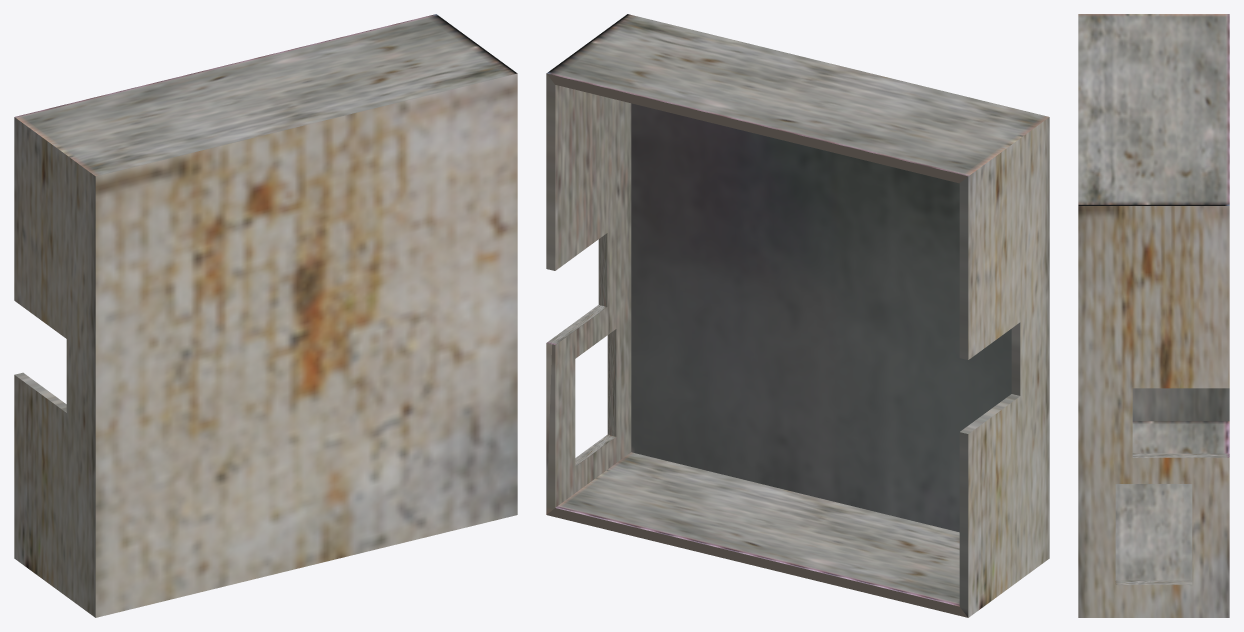
Rendered from 6x6EWs_EWindow_wtf.obj.
The picture shows the model from 3 angles, left to right: view 1: azimuth 30°, elevation 25°; view 2: azimuth 150°, elevation 25°; view 3: azimuth 270°, elevation 25°; orthographic projection. The views are drawn at different scales.
Parts seen in each view (by area): view 1: group2; view 2: group2; view 3: group2.
Part boxes in pixels (bbox=[...]): group2: bbox=[14, 14, 517, 617]; group2: bbox=[546, 14, 1049, 617]; group2: bbox=[1078, 14, 1229, 617].
Bounding box in the file's own units: 660 × 660 × 220.
